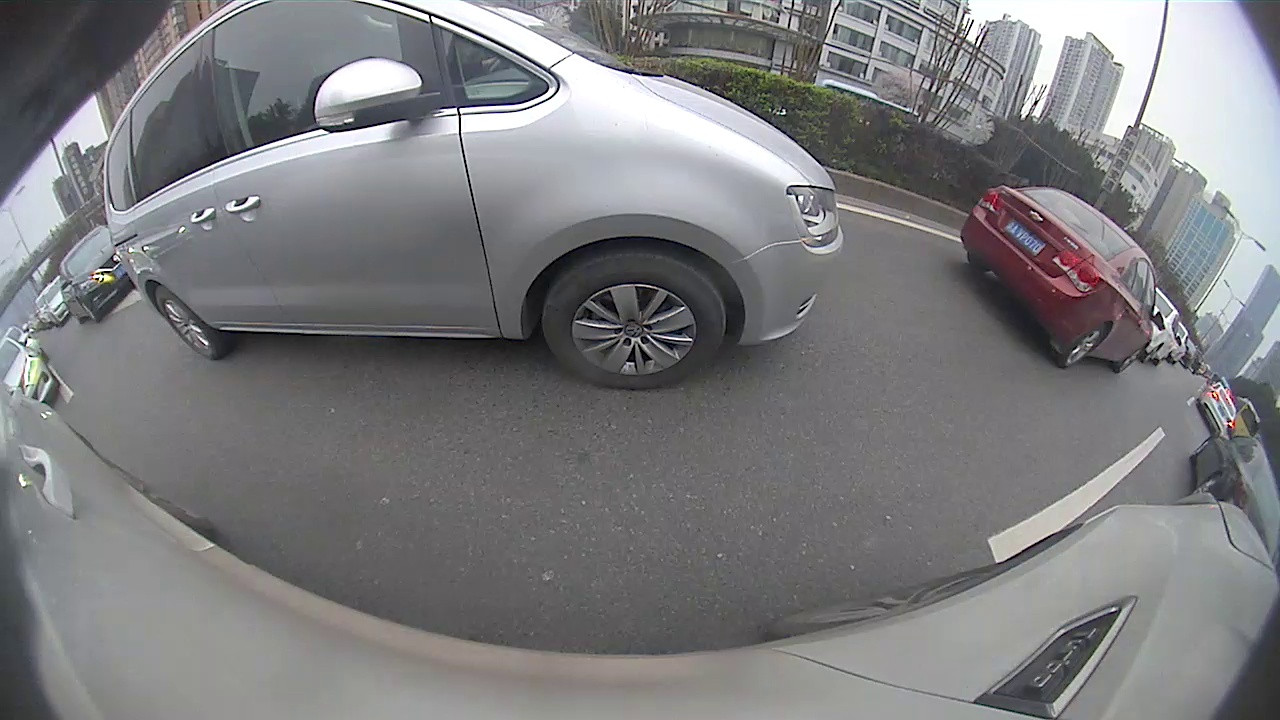car: (101, 1, 847, 393), (960, 185, 1168, 376), (58, 224, 136, 325), (1194, 380, 1238, 440)
front: (541, 255, 726, 393)
rear: (151, 282, 221, 359), (1055, 325, 1109, 369)
